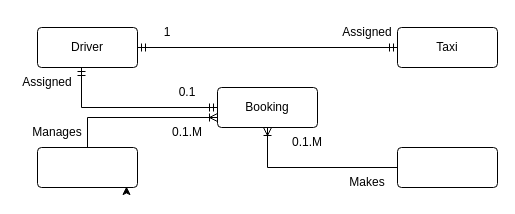
Some shapes in this 515 by 214 pixel diagram are drawn without their labels. The shapes that lost their labels are listed below. From the top down, each one's centre as x and y in pixels, then its label:
pixel 87 167: Admin
pixel 447 167: Users
